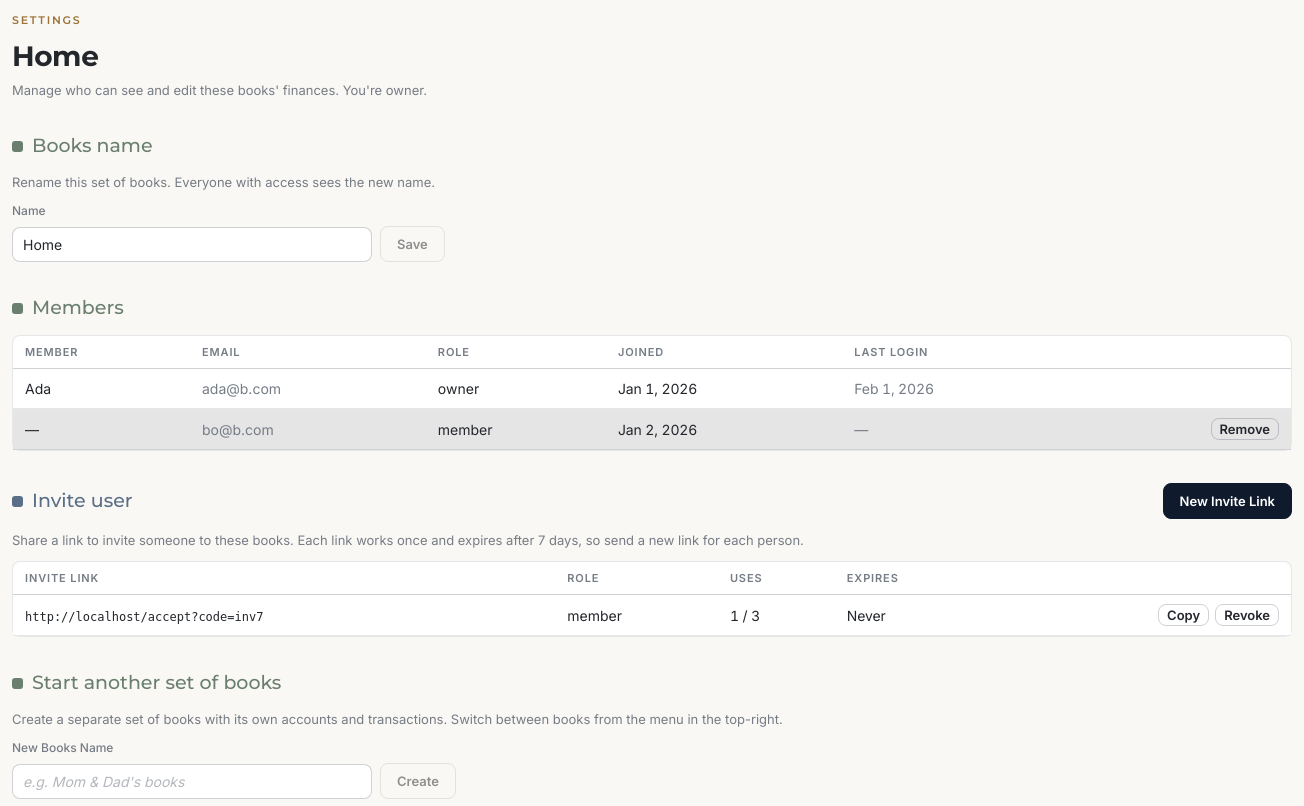
Test case: Book page › surfaces a revoke error
Expected: the text "ada@b.com" is shown, [190,368,426,408]
Click the button "Revoke" at coordinates (1247, 615), box [1215,604,1279,626]
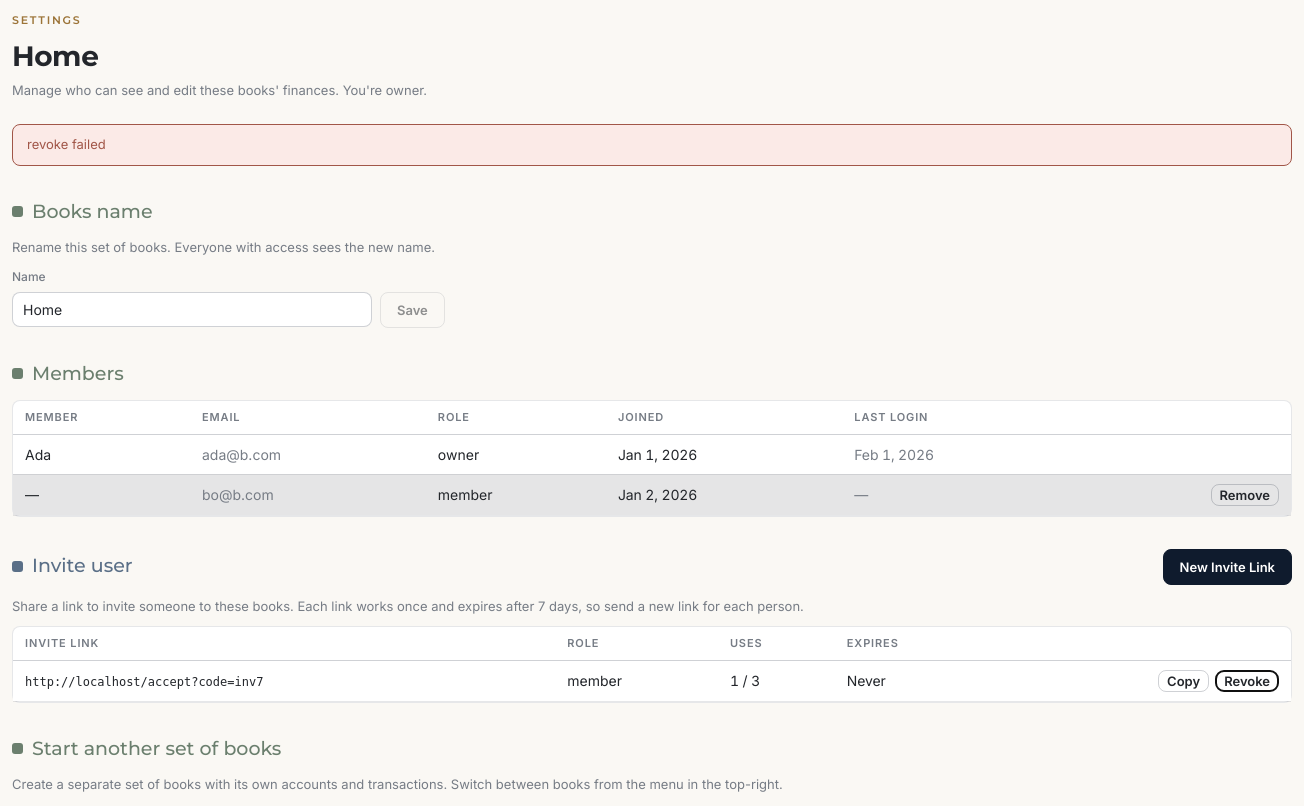
Expected: the text "revoke failed" is shown, [12,124,1292,166]
